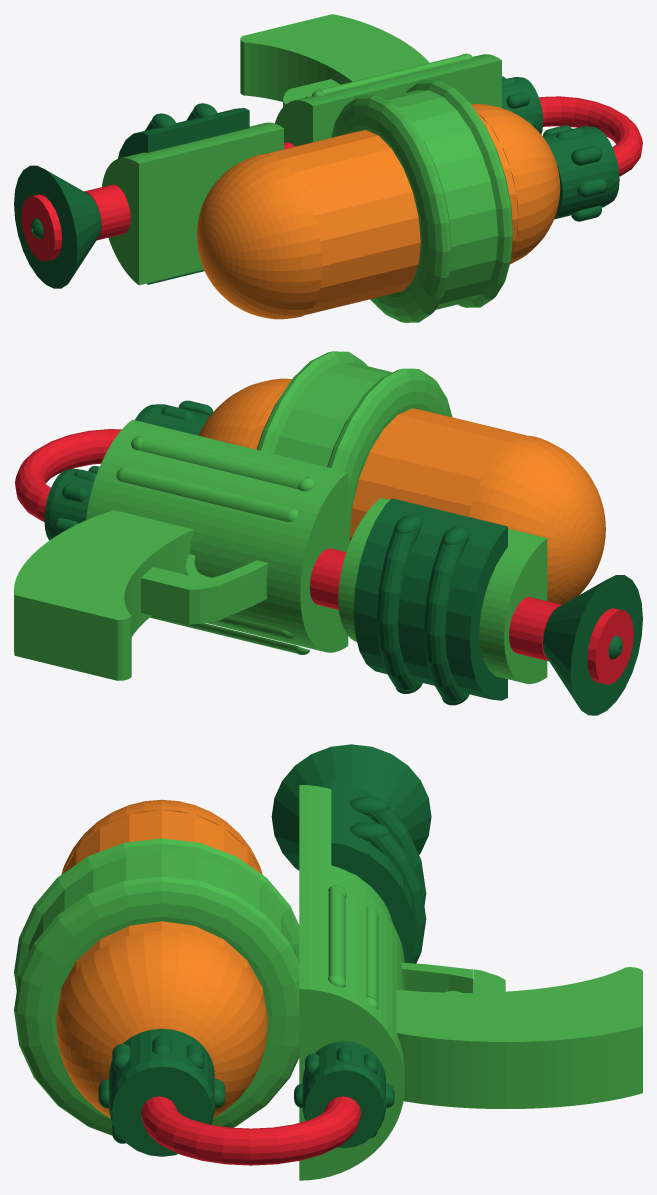
Rendered from splat shooter.obj.
The picture shows the model from 3 angles, top to bottom: view 1: azimuth 30°, elevation 25°; view 2: azimuth 150°, elevation 25°; view 3: azimuth 270°, elevation 25°; orthographic projection. The views are drawn at different scales.
Parts seen in each view (by area): view 1: group_0_4634441, group_0_16089887, group_0_1206582, group_0_15277357; view 2: group_0_4634441, group_0_1206582, group_0_16089887, group_0_15277357; view 3: group_0_4634441, group_0_1206582, group_0_16089887, group_0_15277357.
Boxes of the visible parts, left/top/right/bottom form: group_0_4634441: left=102, top=14, right=512, bottom=322; group_0_16089887: left=196, top=104, right=560, bottom=319; group_0_1206582: left=14, top=76, right=619, bottom=288; group_0_15277357: left=21, top=96, right=642, bottom=261; group_0_4634441: left=14, top=351, right=547, bottom=683; group_0_1206582: left=44, top=400, right=642, bottom=715; group_0_16089887: left=198, top=378, right=605, bottom=604; group_0_15277357: left=15, top=429, right=633, bottom=684; group_0_4634441: left=14, top=785, right=642, bottom=1180; group_0_1206582: left=98, top=744, right=431, bottom=1156; group_0_16089887: left=56, top=799, right=267, bottom=1117; group_0_15277357: left=141, top=1096, right=361, bottom=1165.
Bounding box in the file's own units: 76.74 × 28 × 59.5.
